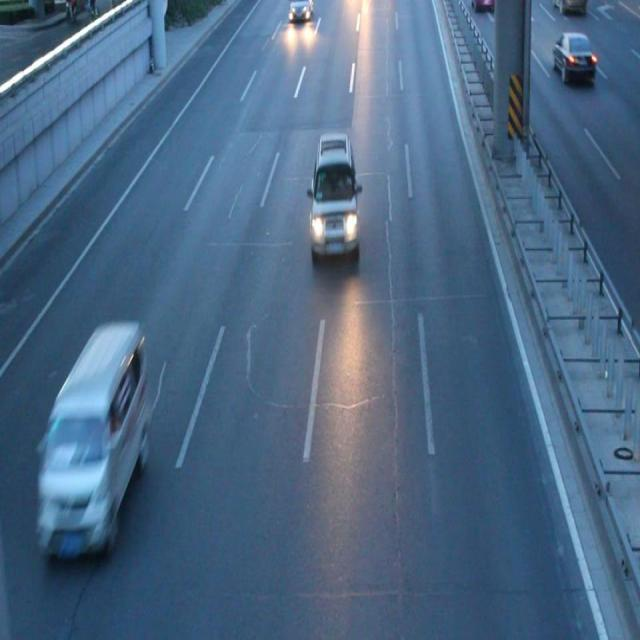car: (286, 1, 312, 22)
truck: (39, 322, 146, 548), (308, 134, 359, 259)
